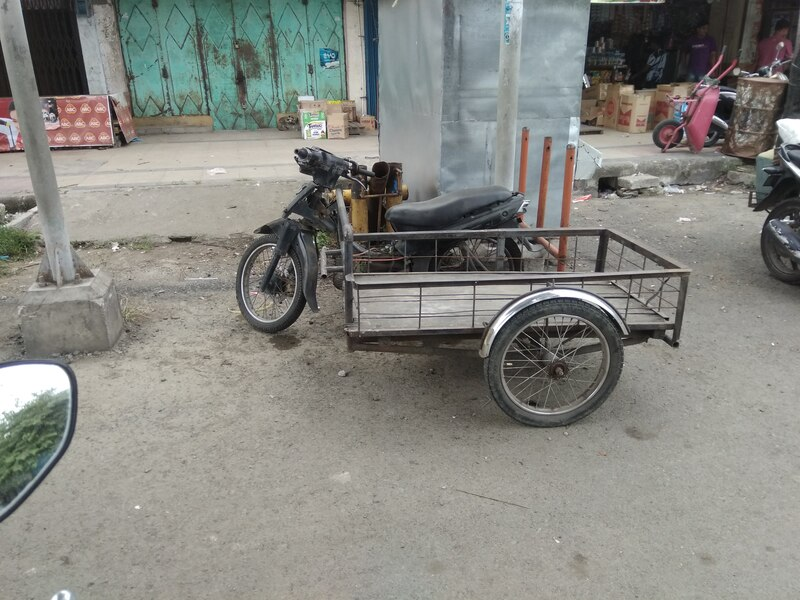becak barang: (226, 140, 695, 434)
